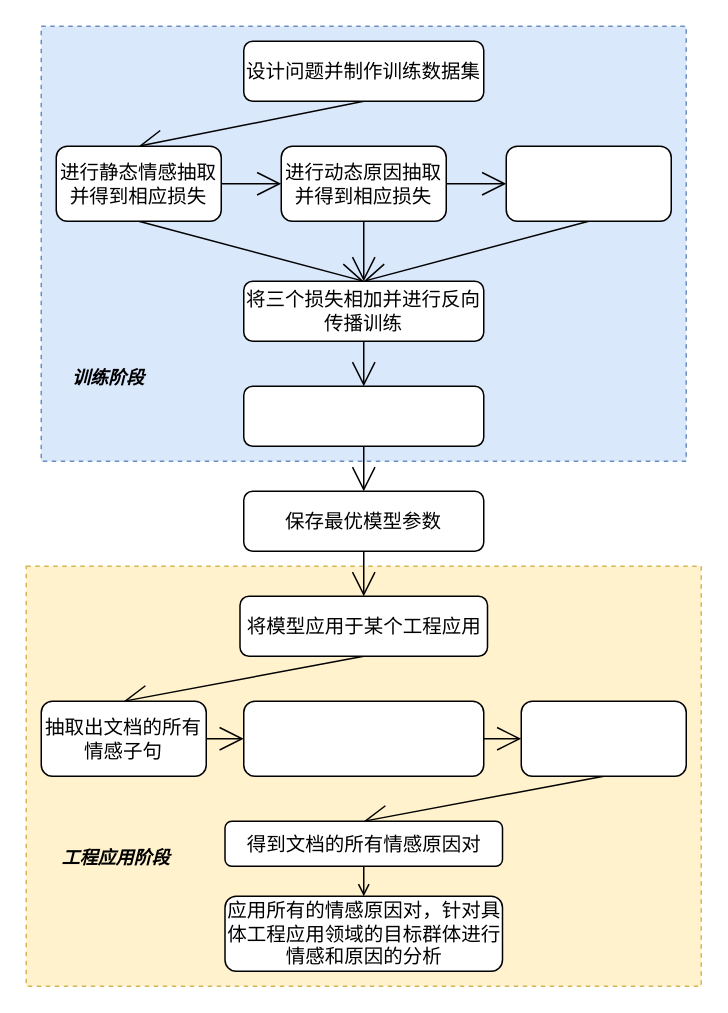
The diagram is 728 pixels wide and 1013 high, and some of its shapes have lost their labels. The centre of each missing label's shape, as x and y in pixels:
"得到最优模型参数" belongs at pixel 363 415.
"根据情感子句抽取出对应的原因子句，得到所有候选的情感原因对" belongs at pixel 363 738.
"筛选出所有正确的情感原因对" belongs at pixel 603 738.
"进行动态情感抽取并得到相应损失" belongs at pixel 588 183.
